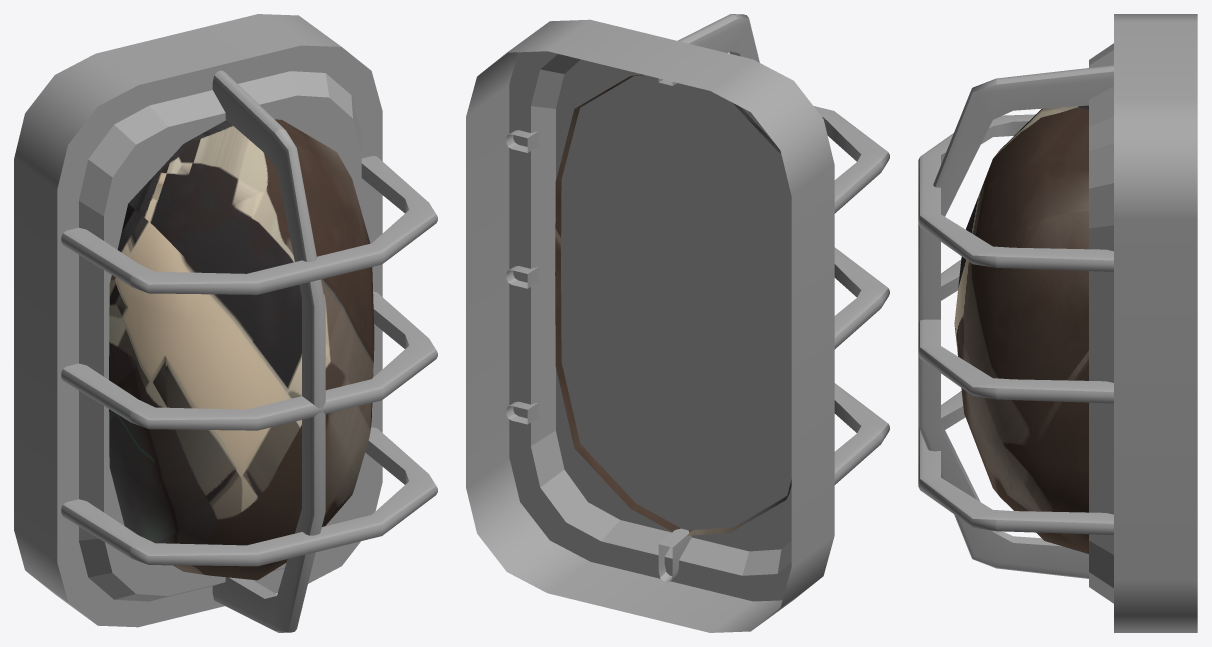
File: Lamp.fbx
The picture shows the model from 3 angles, left to right: view 1: azimuth 30°, elevation 25°; view 2: azimuth 150°, elevation 25°; view 3: azimuth 270°, elevation 25°; orthographic projection. The views are drawn at different scales.
Visible parts, largest first — view 1: Base2, Lamp; view 2: Base2, Lamp; view 3: Base2, Lamp.
Part boxes in pixels (box(x1,y1,x2,y2)): Base2: box(14, 14, 437, 632); Lamp: box(109, 119, 374, 580); Base2: box(466, 14, 889, 632); Lamp: box(555, 74, 791, 535); Base2: box(918, 14, 1197, 632); Lamp: box(954, 105, 1088, 553).
Bounding box in the file's own units: 17.56 × 27.95 × 13.45.
